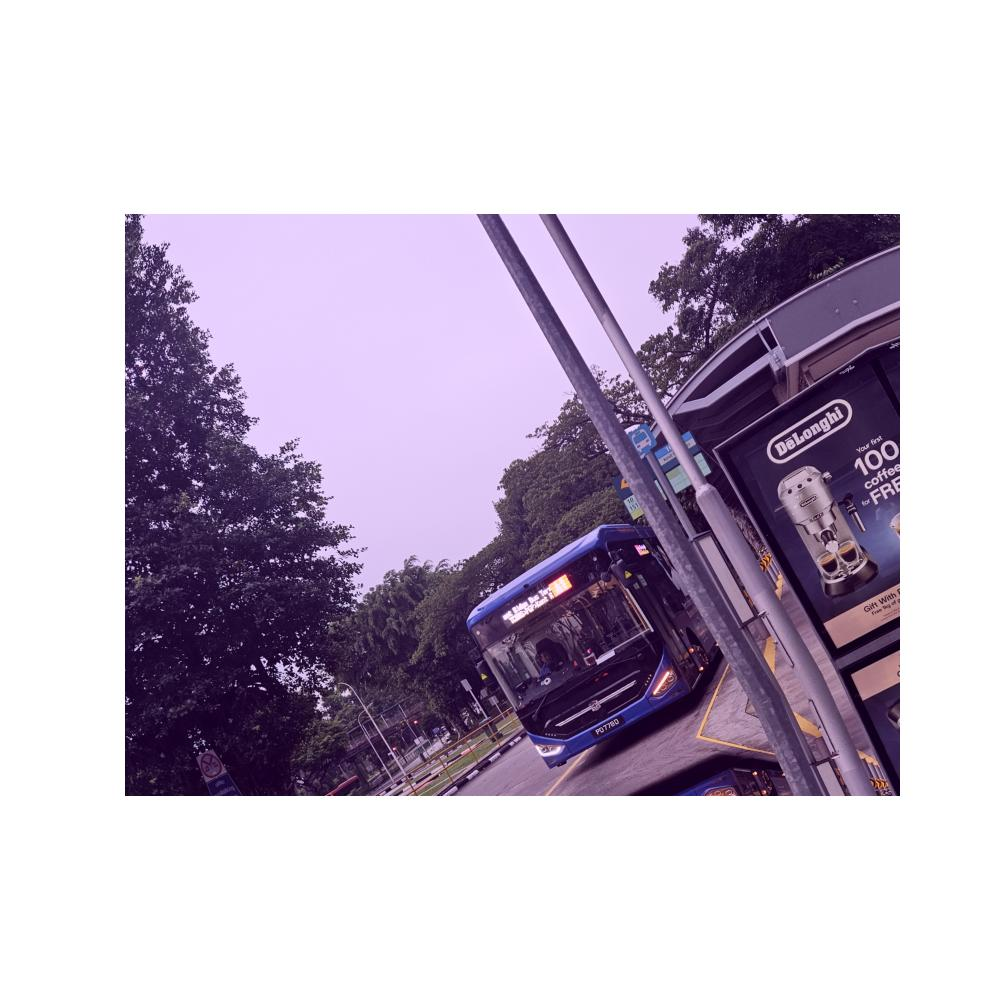bus: (463, 519, 713, 764)
